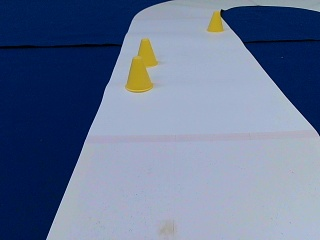cone: (124, 57, 152, 92), (137, 39, 157, 67), (207, 11, 223, 32)
